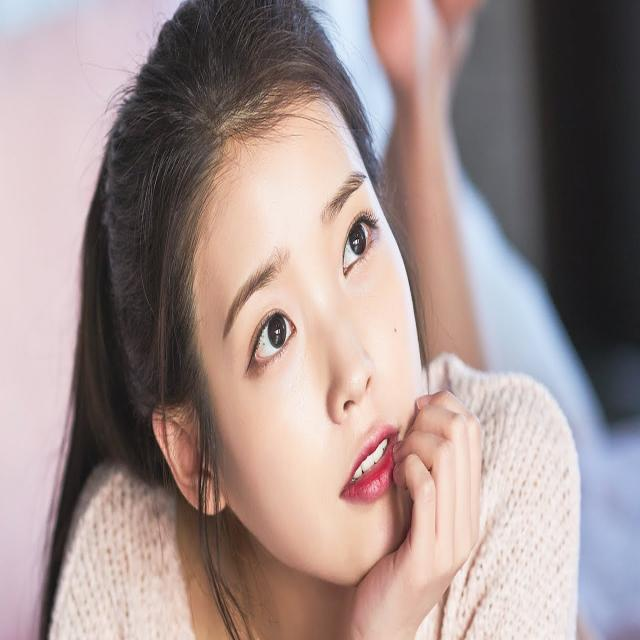face: (181, 102, 427, 570)
